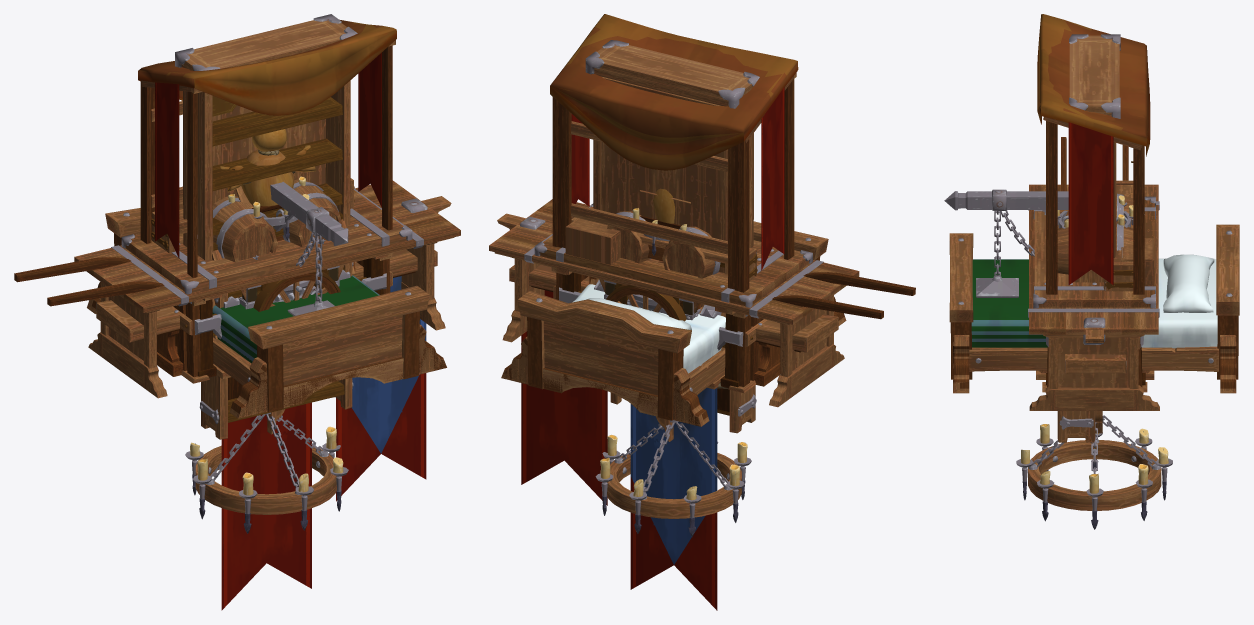
The model's file is props.glb.
3 views of the same model, side by side, from view 1: azimuth 30°, elevation 25°; view 2: azimuth 150°, elevation 25°; view 3: azimuth 270°, elevation 25° (orthographic). The views are drawn at different scales.
Visible parts, largest first — view 1: Bookcase_2, Stall_Cart_Empty, Stall_Empty, Bed_Twin1, Table_Large, Bed_Twin2, Banner_1_Cloth, Workbench, Chandelier, Banner_1, Barrel_Holder, Banner_2 (+5 smaller); view 2: Stall_Empty, Bed_Twin1, Stall_Cart_Empty, Bookcase_2, Table_Large, Bed_Twin2, Banner_1, Banner_2_Cloth, Workbench, Chandelier, Banner_1_Cloth, Bench (+4 smaller); view 3: Bed_Twin2, Stall_Empty, Bed_Twin1, Table_Large, Stall_Cart_Empty, Chandelier, Bookcase_2, Workbench, Lantern_Wall, Barrel_Holder, Bench, Shelf_Arch (+3 smaller).
Boxes of the visible parts, x1=… form: Bookcase_2: x1=175, y1=14, x2=357, y2=260; Stall_Cart_Empty: x1=14, y1=22, x2=396, y2=370; Stall_Empty: x1=138, y1=19, x2=395, y2=383; Bed_Twin1: x1=87, y1=200, x2=445, y2=418; Table_Large: x1=74, y1=180, x2=460, y2=398; Bed_Twin2: x1=92, y1=210, x2=446, y2=417; Banner_1_Cloth: x1=221, y1=402, x2=311, y2=610; Workbench: x1=121, y1=190, x2=412, y2=377; Chandelier: x1=185, y1=412, x2=348, y2=533; Banner_1: x1=267, y1=198, x2=427, y2=501; Barrel_Holder: x1=212, y1=180, x2=355, y2=270; Banner_2: x1=352, y1=196, x2=451, y2=453; Stall_Empty: x1=550, y1=27, x2=797, y2=393; Bed_Twin1: x1=501, y1=221, x2=846, y2=426; Stall_Cart_Empty: x1=550, y1=14, x2=915, y2=380; Bookcase_2: x1=585, y1=40, x2=759, y2=274; Table_Large: x1=489, y1=199, x2=859, y2=407; Bed_Twin2: x1=504, y1=237, x2=844, y2=426; Banner_1: x1=521, y1=216, x2=673, y2=505; Banner_2_Cloth: x1=630, y1=387, x2=717, y2=564; Workbench: x1=534, y1=203, x2=812, y2=388; Chandelier: x1=595, y1=420, x2=751, y2=536; Banner_1_Cloth: x1=630, y1=476, x2=717, y2=610; Bench: x1=509, y1=264, x2=838, y2=386; Bed_Twin2: x1=949, y1=224, x2=1239, y2=388; Stall_Empty: x1=1041, y1=20, x2=1150, y2=392; Bed_Twin1: x1=949, y1=230, x2=1239, y2=393; Table_Large: x1=1028, y1=184, x2=1159, y2=410; Stall_Cart_Empty: x1=1037, y1=14, x2=1149, y2=294; Chandelier: x1=1016, y1=415, x2=1172, y2=529; Bookcase_2: x1=1069, y1=34, x2=1120, y2=282; Workbench: x1=1033, y1=196, x2=1155, y2=385; Lantern_Wall: x1=944, y1=189, x2=1068, y2=297; Barrel_Holder: x1=1057, y1=193, x2=1133, y2=274; Bench: x1=1065, y1=354, x2=1126, y2=373; Shelf_Arch: x1=1057, y1=411, x2=1095, y2=442.
Size of the model in its own units: 3.72 by 4.87 by 2.46.
Materials: 5 (5 with a texture image).
